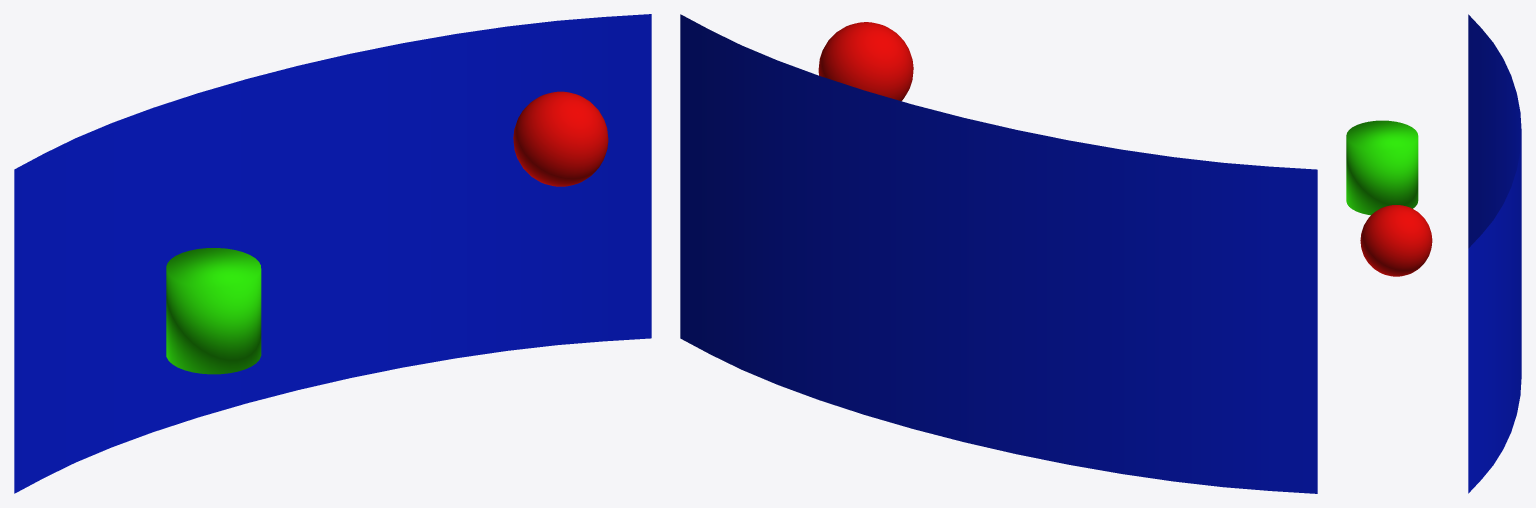
The picture shows the model from 3 angles, left to right: view 1: azimuth 30°, elevation 25°; view 2: azimuth 150°, elevation 25°; view 3: azimuth 270°, elevation 25°; orthographic projection. The views are drawn at different scales.
Parts seen in each view (by area): view 1: view_plane, 圓柱體, 球體; view 2: view_plane, 球體; view 3: view_plane, 圓柱體, 球體.
Boxes of the visible parts, x1,y1,x2,y2 form: view_plane: [14, 14, 651, 493]; 圓柱體: [166, 248, 261, 374]; 球體: [513, 91, 608, 186]; view_plane: [680, 14, 1317, 493]; 球體: [818, 22, 913, 101]; view_plane: [1468, 14, 1521, 493]; 圓柱體: [1346, 120, 1418, 215]; 球體: [1360, 205, 1432, 276].
Size of the model in its own units: 15.46 by 7.51 by 4.87.
